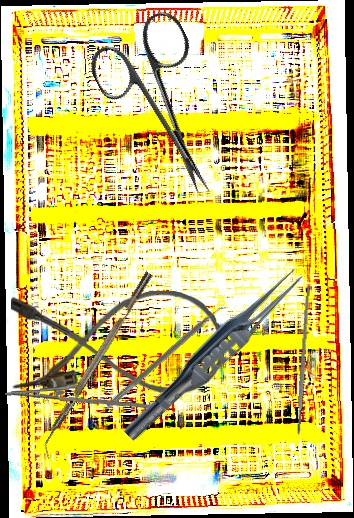Cannula: (11, 291, 222, 393)
Chopper: (34, 271, 162, 460)
Iris Scissors: (80, 6, 253, 215)
Needle Holder: (4, 374, 162, 415)
Scalpel Handle: (294, 283, 312, 437)
Spatula Surgical: (105, 299, 232, 414)
Tissue Forceps: (118, 259, 310, 450)
